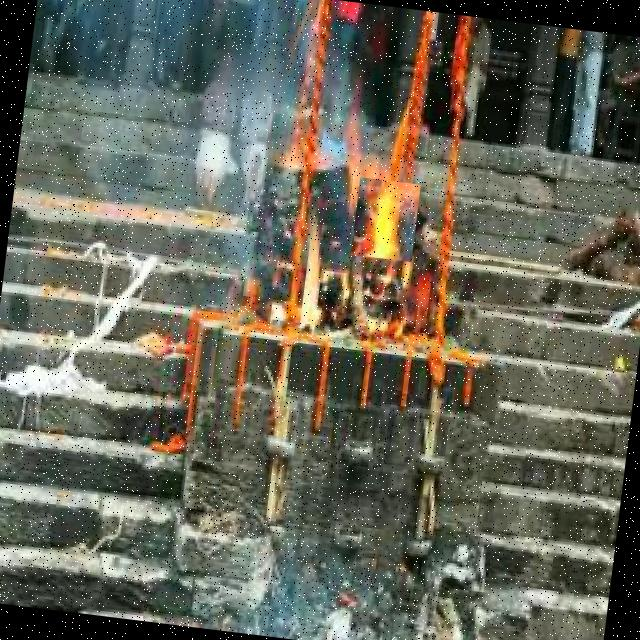fire: (350, 176, 420, 262)
